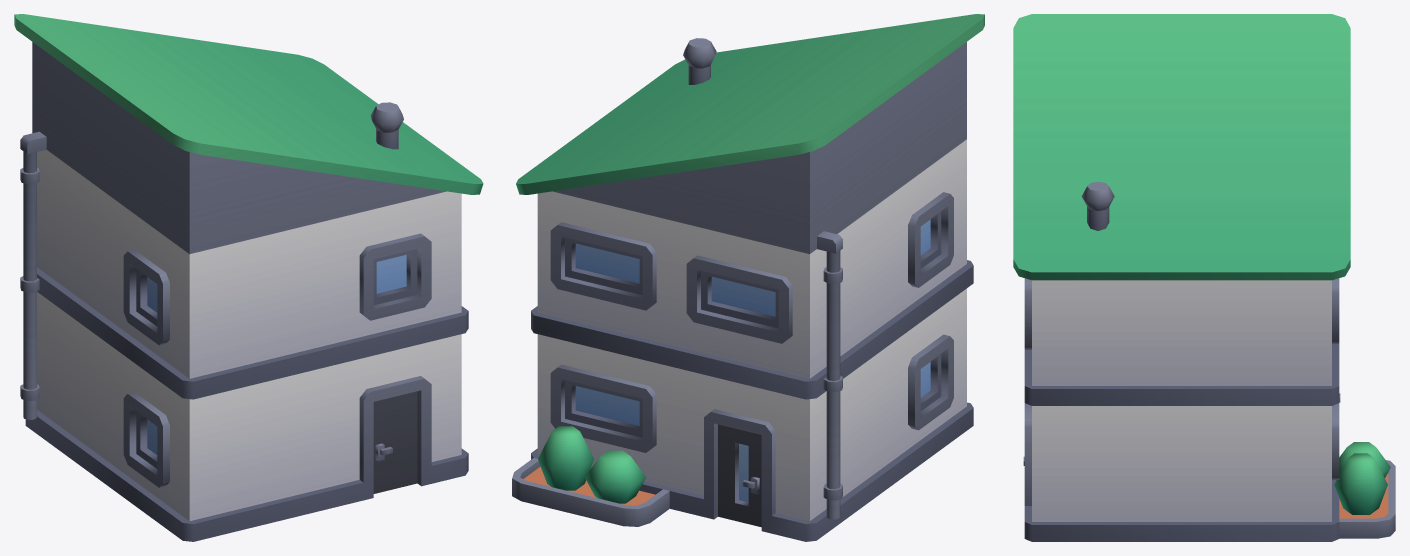
The model's file is house_10.fbx.
The picture shows the model from 3 angles, left to right: view 1: azimuth 30°, elevation 25°; view 2: azimuth 150°, elevation 25°; view 3: azimuth 270°, elevation 25°; orthographic projection. The views are drawn at different scales.
Parts seen in each view (by area): view 1: house_10; view 2: house_10; view 3: house_10.
Part boxes in pixels (x1=…): house_10: x1=14, y1=14, x2=483, y2=541; house_10: x1=512, y1=14, x2=984, y2=541; house_10: x1=1013, y1=14, x2=1395, y2=541.
Bounding box in the file's own units: 0.9209 × 1.15 × 1.02.
1 material, 1 textured.
